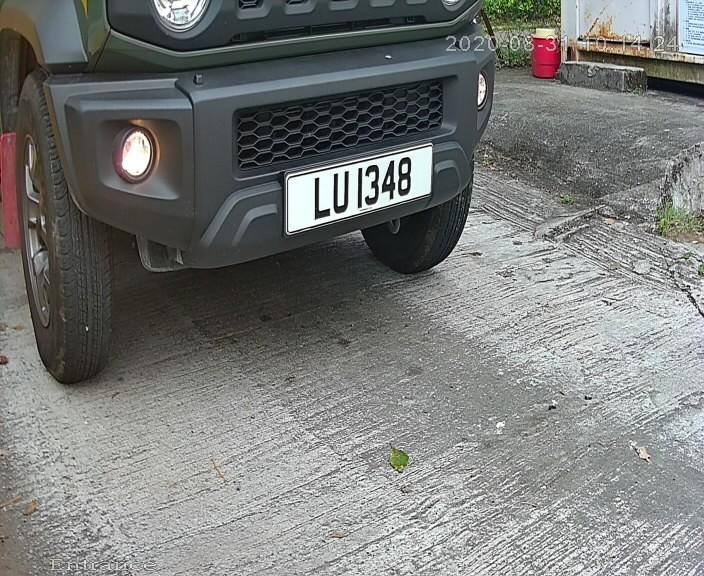Car: (13, 6, 566, 363)
License Plate: (283, 145, 437, 235)
